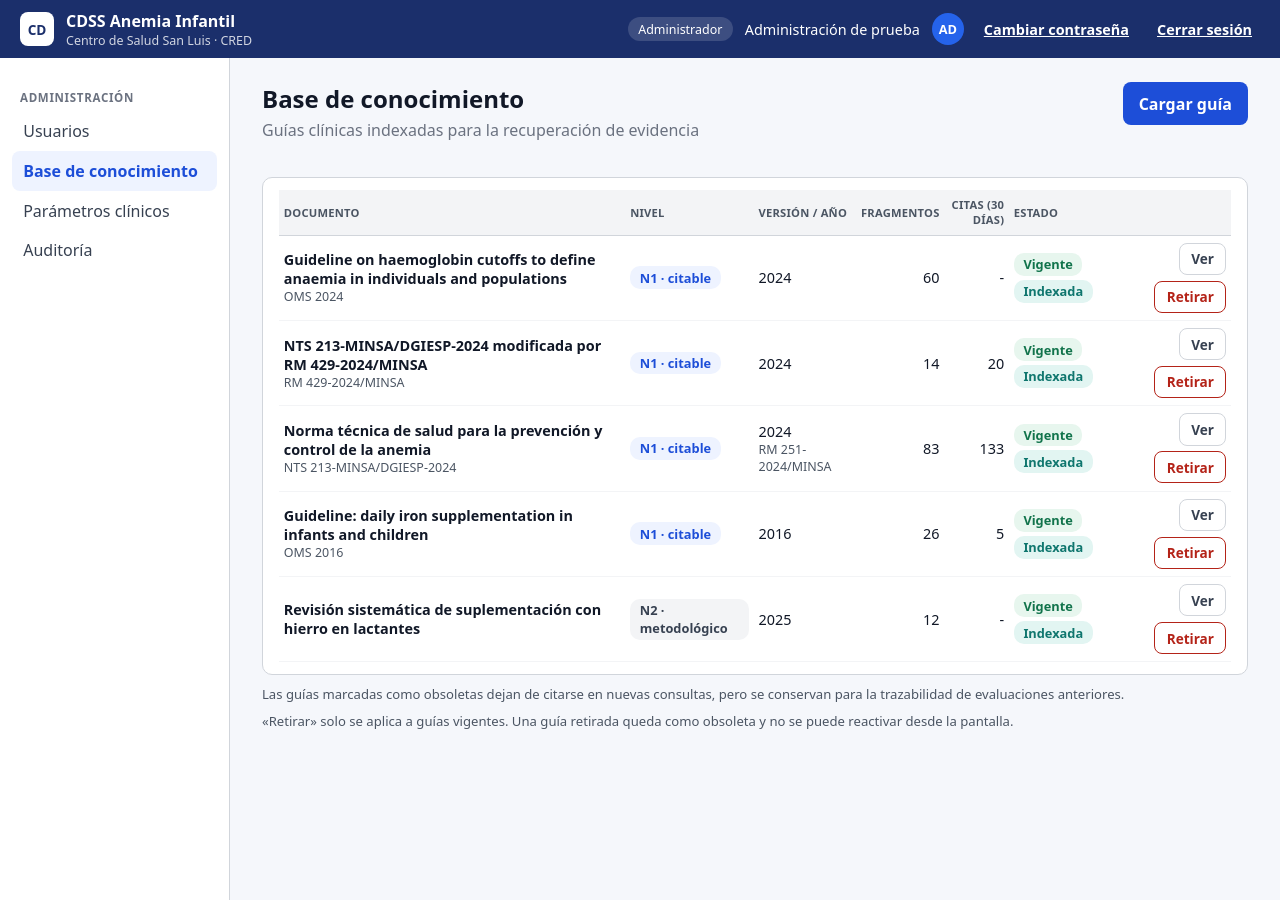
Scenario: M11 · ventana de retiro › 409 de una guía que cambió: mensaje y «Recargar», que cierra y vuelve a pedir la lista
The image size is (1280, 900).
Expected: the element named "Guías de la base de conocimiento" is shown, [279, 190, 1231, 662]
Click the button "Retirar" in the row of "2025" at (1190, 638), box [1154, 622, 1226, 654]
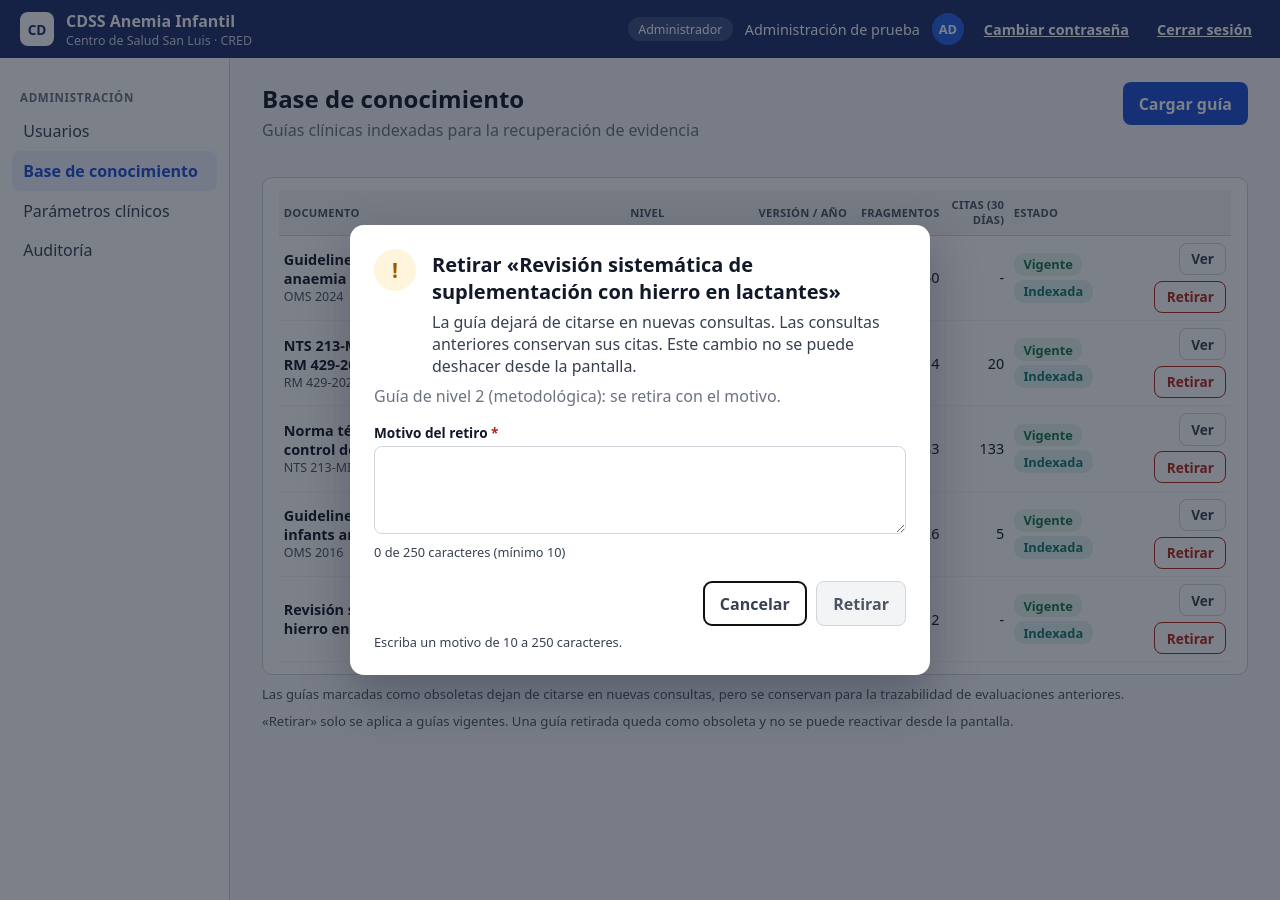
Type "Guía reemplazada por una revisión más reciente" into the text box labelled "Motivo del retiro *" at (640, 490), box [374, 446, 906, 534]
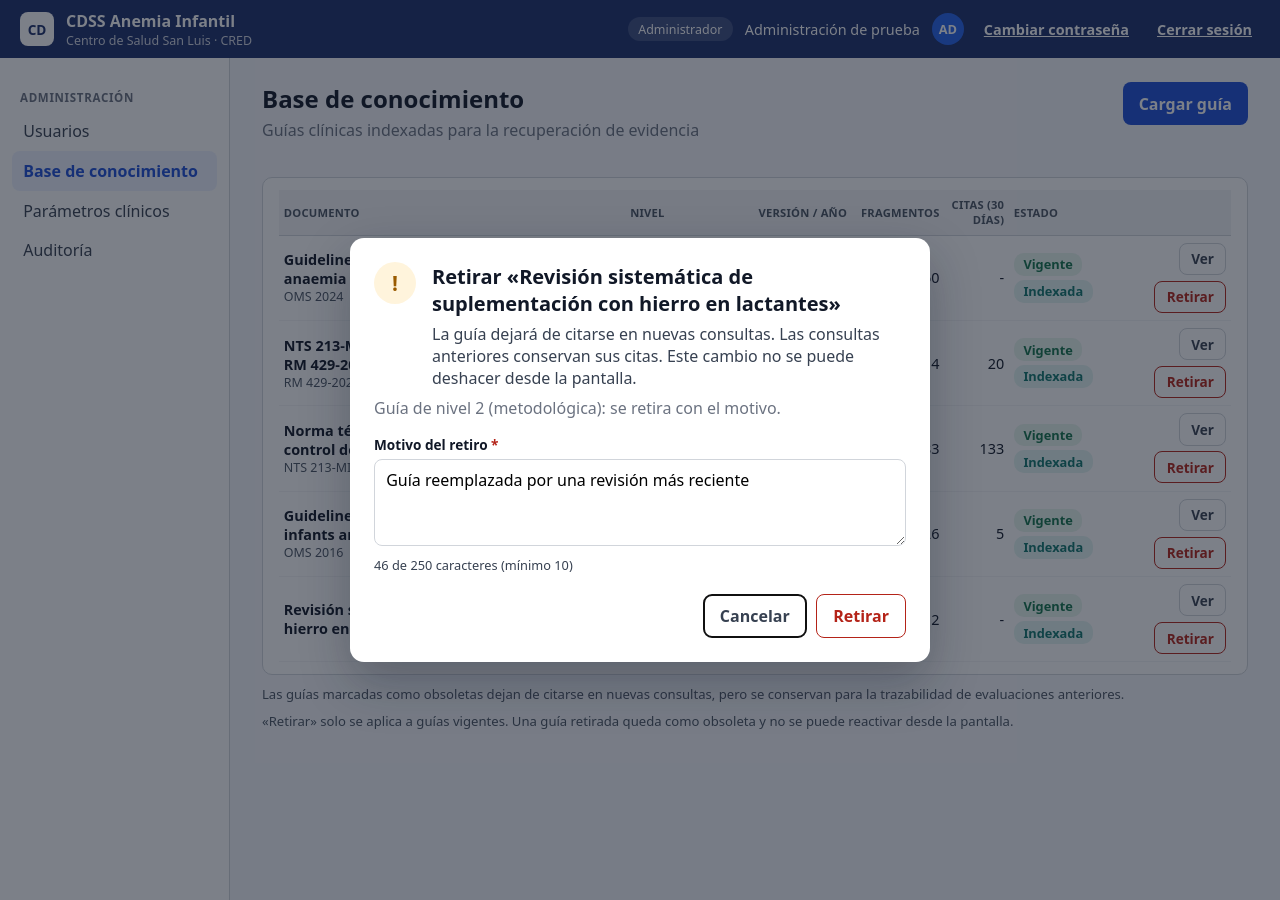
Click the button "Retirar" at (861, 616), box [816, 594, 906, 638]
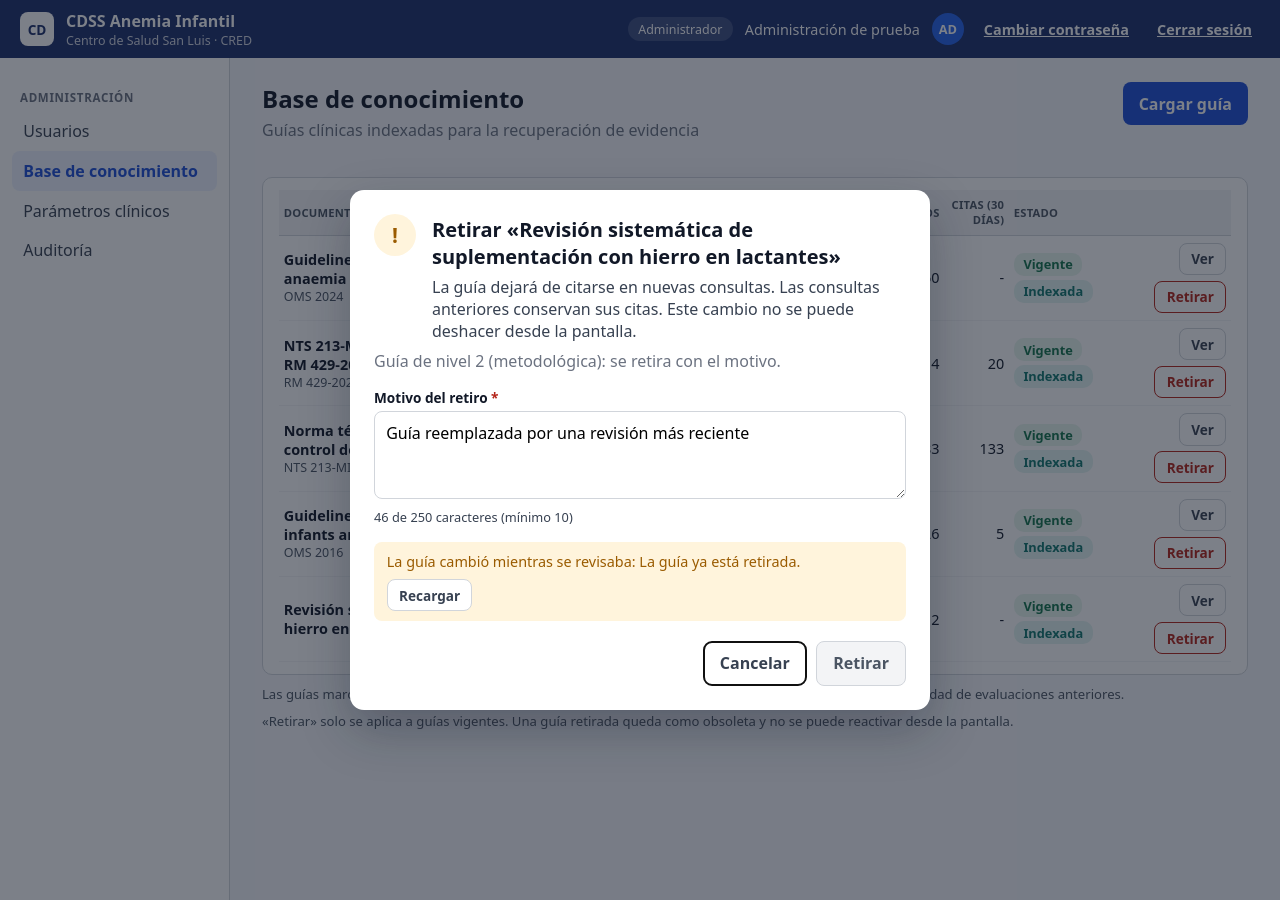
Click the button "Recargar" at (430, 595), box [387, 579, 472, 611]
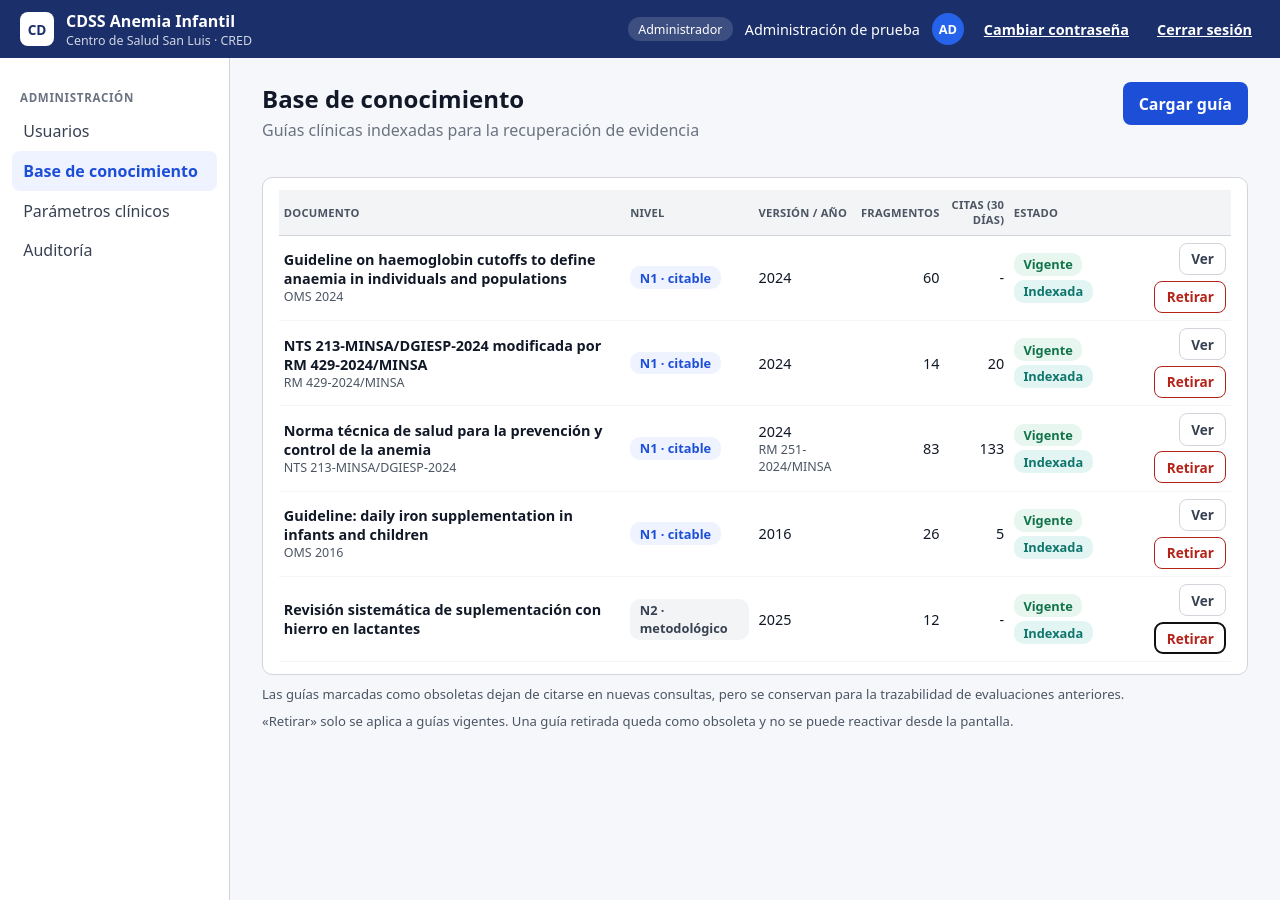
Expected: the dialog is gone
